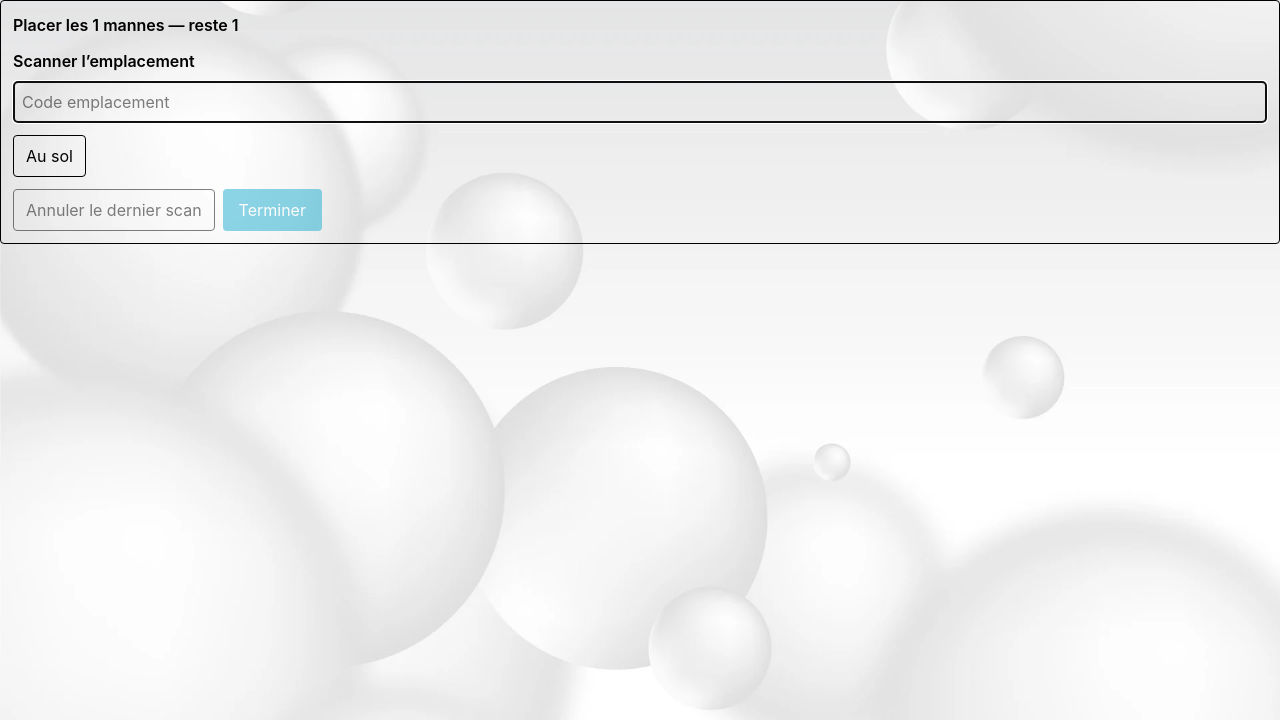
PlacementMannes › emplacement inconnu → message, reste inchangé
The image size is (1280, 720).
Type "ZZZ" into the field with placeholder "Code emplacement" at coordinates (640, 102), box 13,81 -> 1267,123
Then press Enter
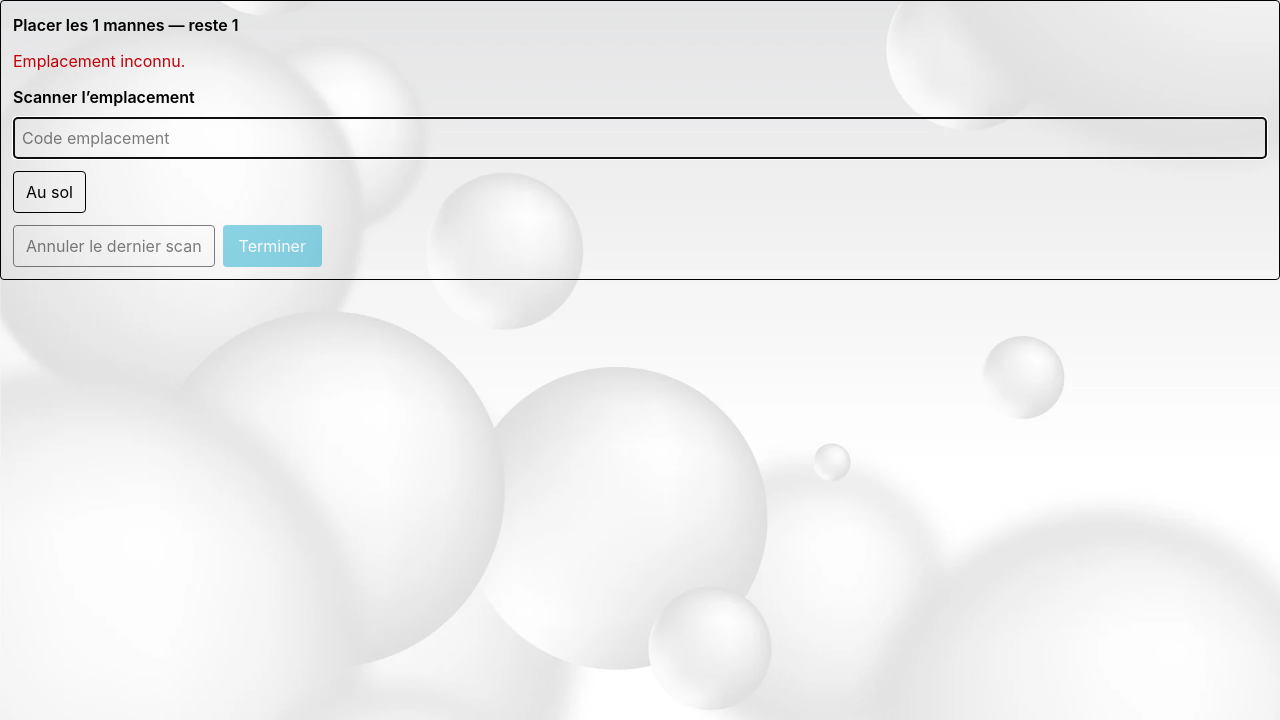
Expected: the text "Placer les 1 mannes — reste 1" is shown, 13,15 -> 239,35
Expected: the text "Emplacement inconnu." is shown, 13,51 -> 185,71
